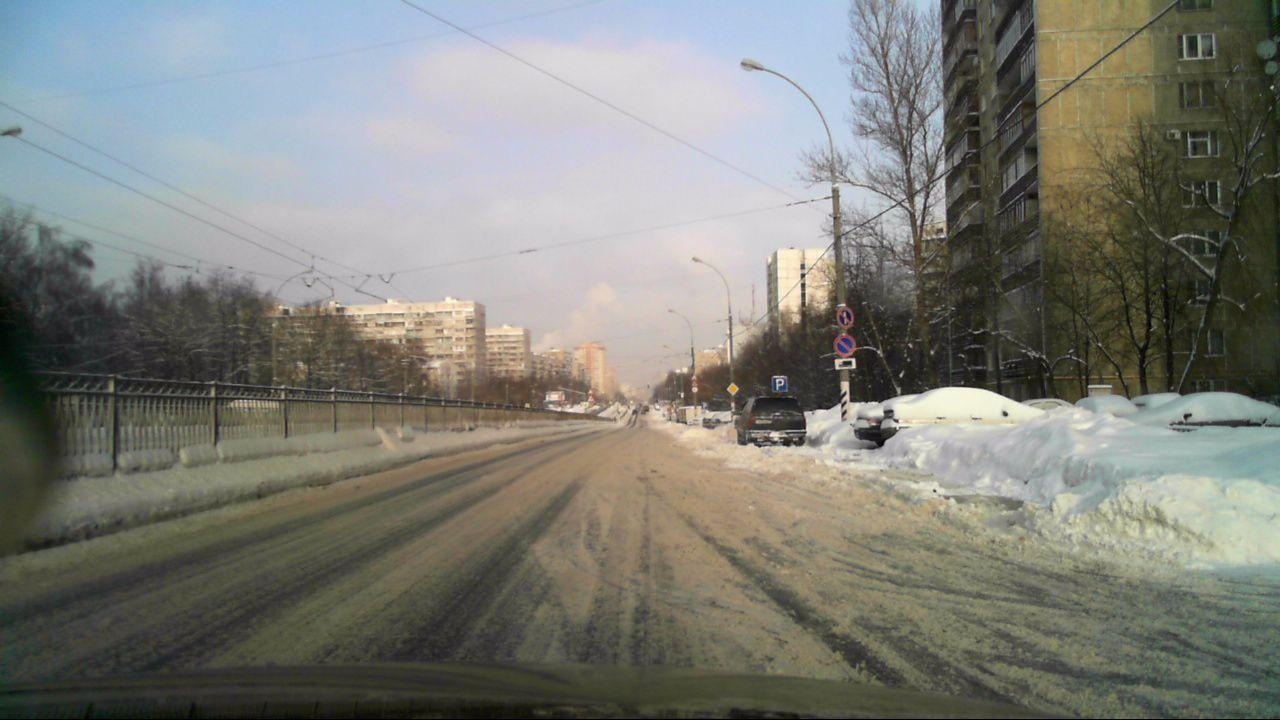2_1: (727, 382, 739, 395)
3_28: (833, 333, 857, 357)
3_29: (835, 306, 853, 329)
6_4: (772, 376, 788, 392)
8_4_1: (833, 357, 858, 371)
